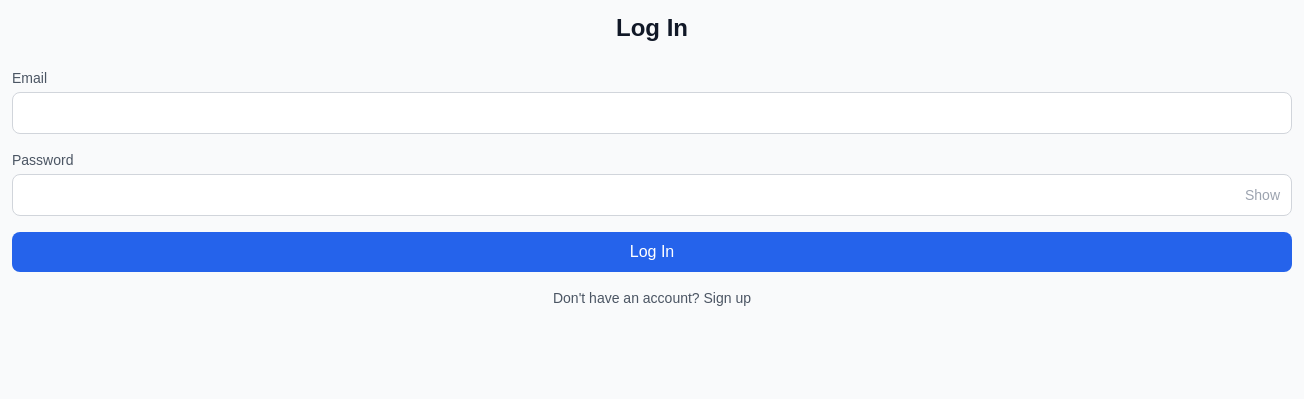
Scenario: LoginPage › shows "Invalid email or password" on a 401 without storing a user
Type "claimant@demo.com" into the field labelled "Email" at (652, 113), box [12,92,1292,134]
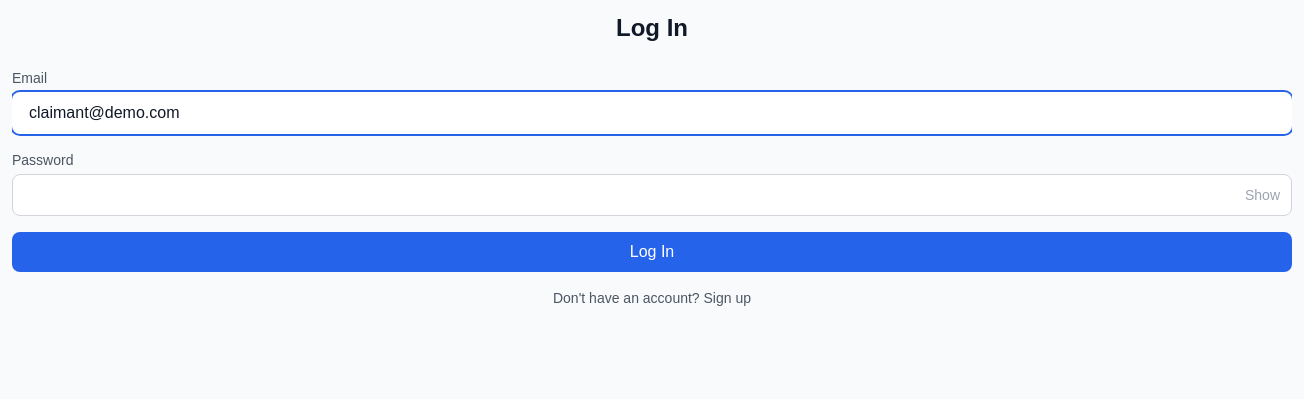
Type "WrongPassword1" into the password field labelled "Password" at (652, 195), box [12,174,1292,216]
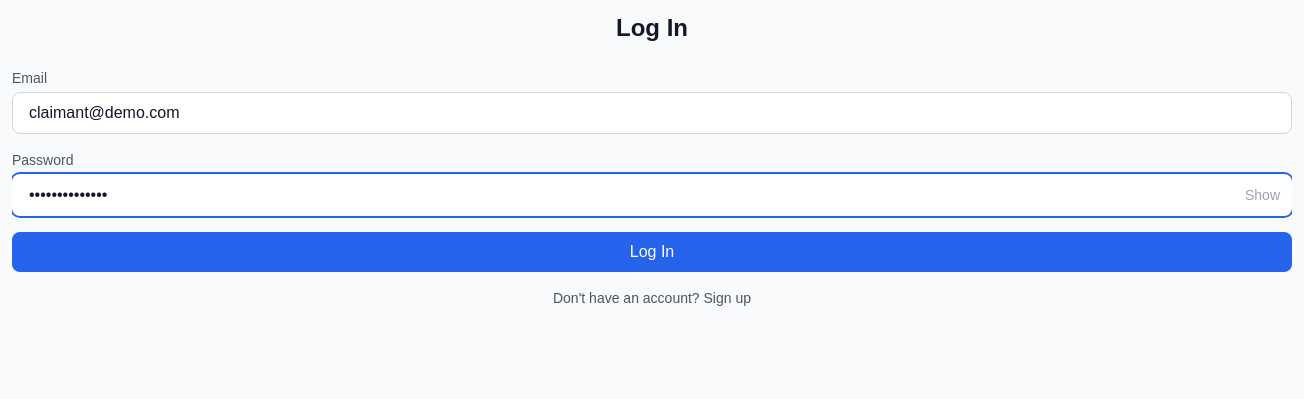
Click the button "Log In" at (652, 252), box [12,232,1292,272]
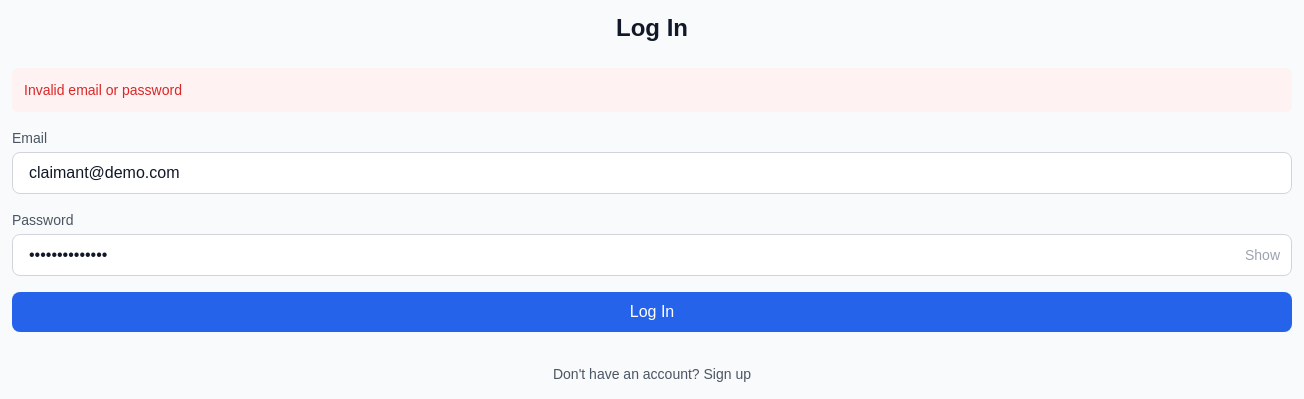
expect the text "Invalid email or password" is shown: met, box [12,68,1292,112]
